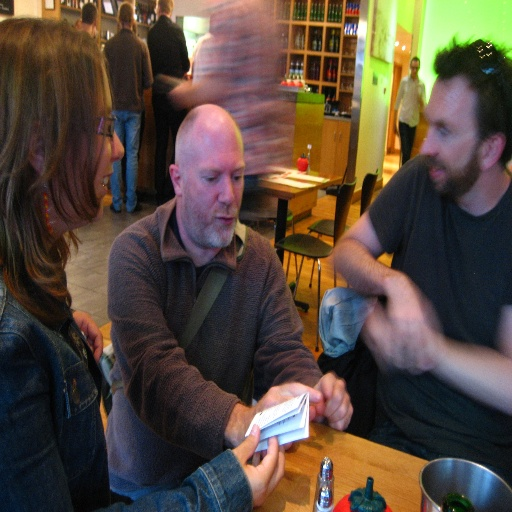hand: (252, 380, 323, 451), (230, 424, 285, 508), (394, 276, 437, 366), (312, 382, 359, 439), (356, 298, 397, 359), (70, 310, 104, 365)
